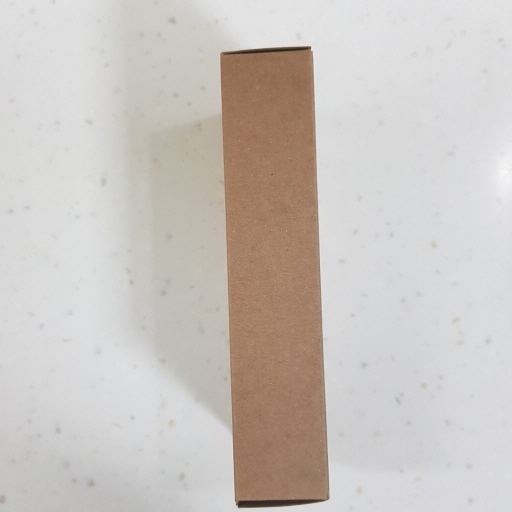Paper_0: (217, 38, 338, 509)
